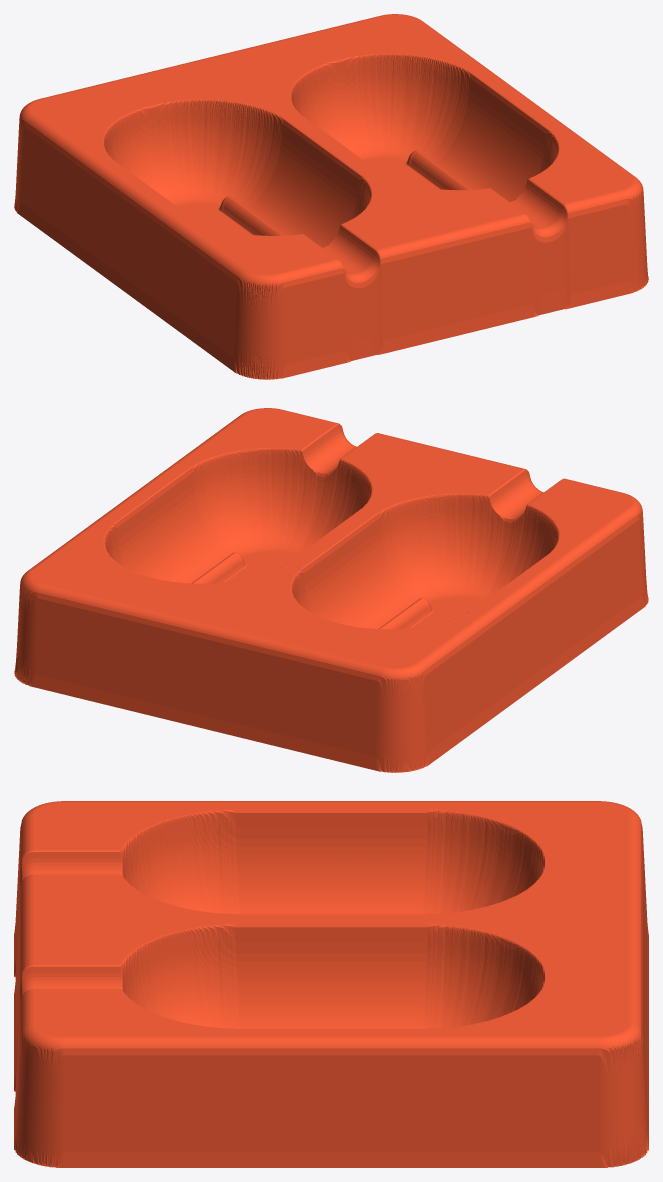
File: mold.glb
The picture shows the model from 3 angles, top to bottom: view 1: azimuth 30°, elevation 25°; view 2: azimuth 150°, elevation 25°; view 3: azimuth 270°, elevation 25°; orthographic projection. The views are drawn at different scales.
Visible parts, largest first — view 1: geometry_0; view 2: geometry_0; view 3: geometry_0.
Boxes of the visible parts, x1,y1,x2,y2 form: geometry_0: (14,14,648,379); geometry_0: (14,408,648,772); geometry_0: (14,801,648,1167).
Size of the model in its own units: 0.1073 by 0.0245 by 0.1147.
